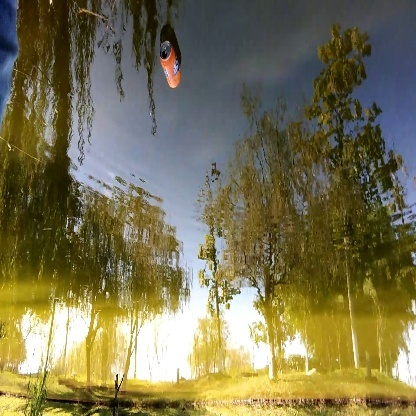bottle: (156, 39, 186, 89)
